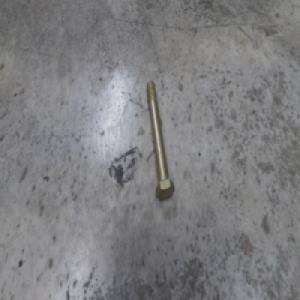Bolt: (146, 80, 175, 202)
